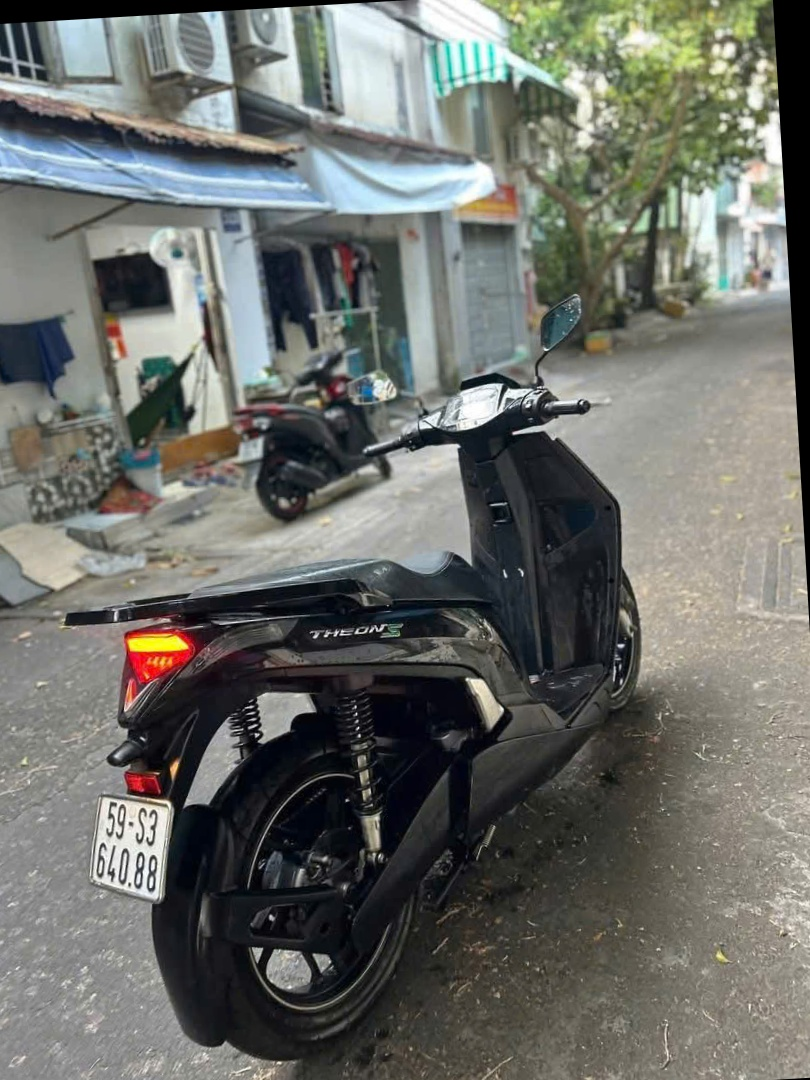Bien-so: (81, 781, 179, 909)
